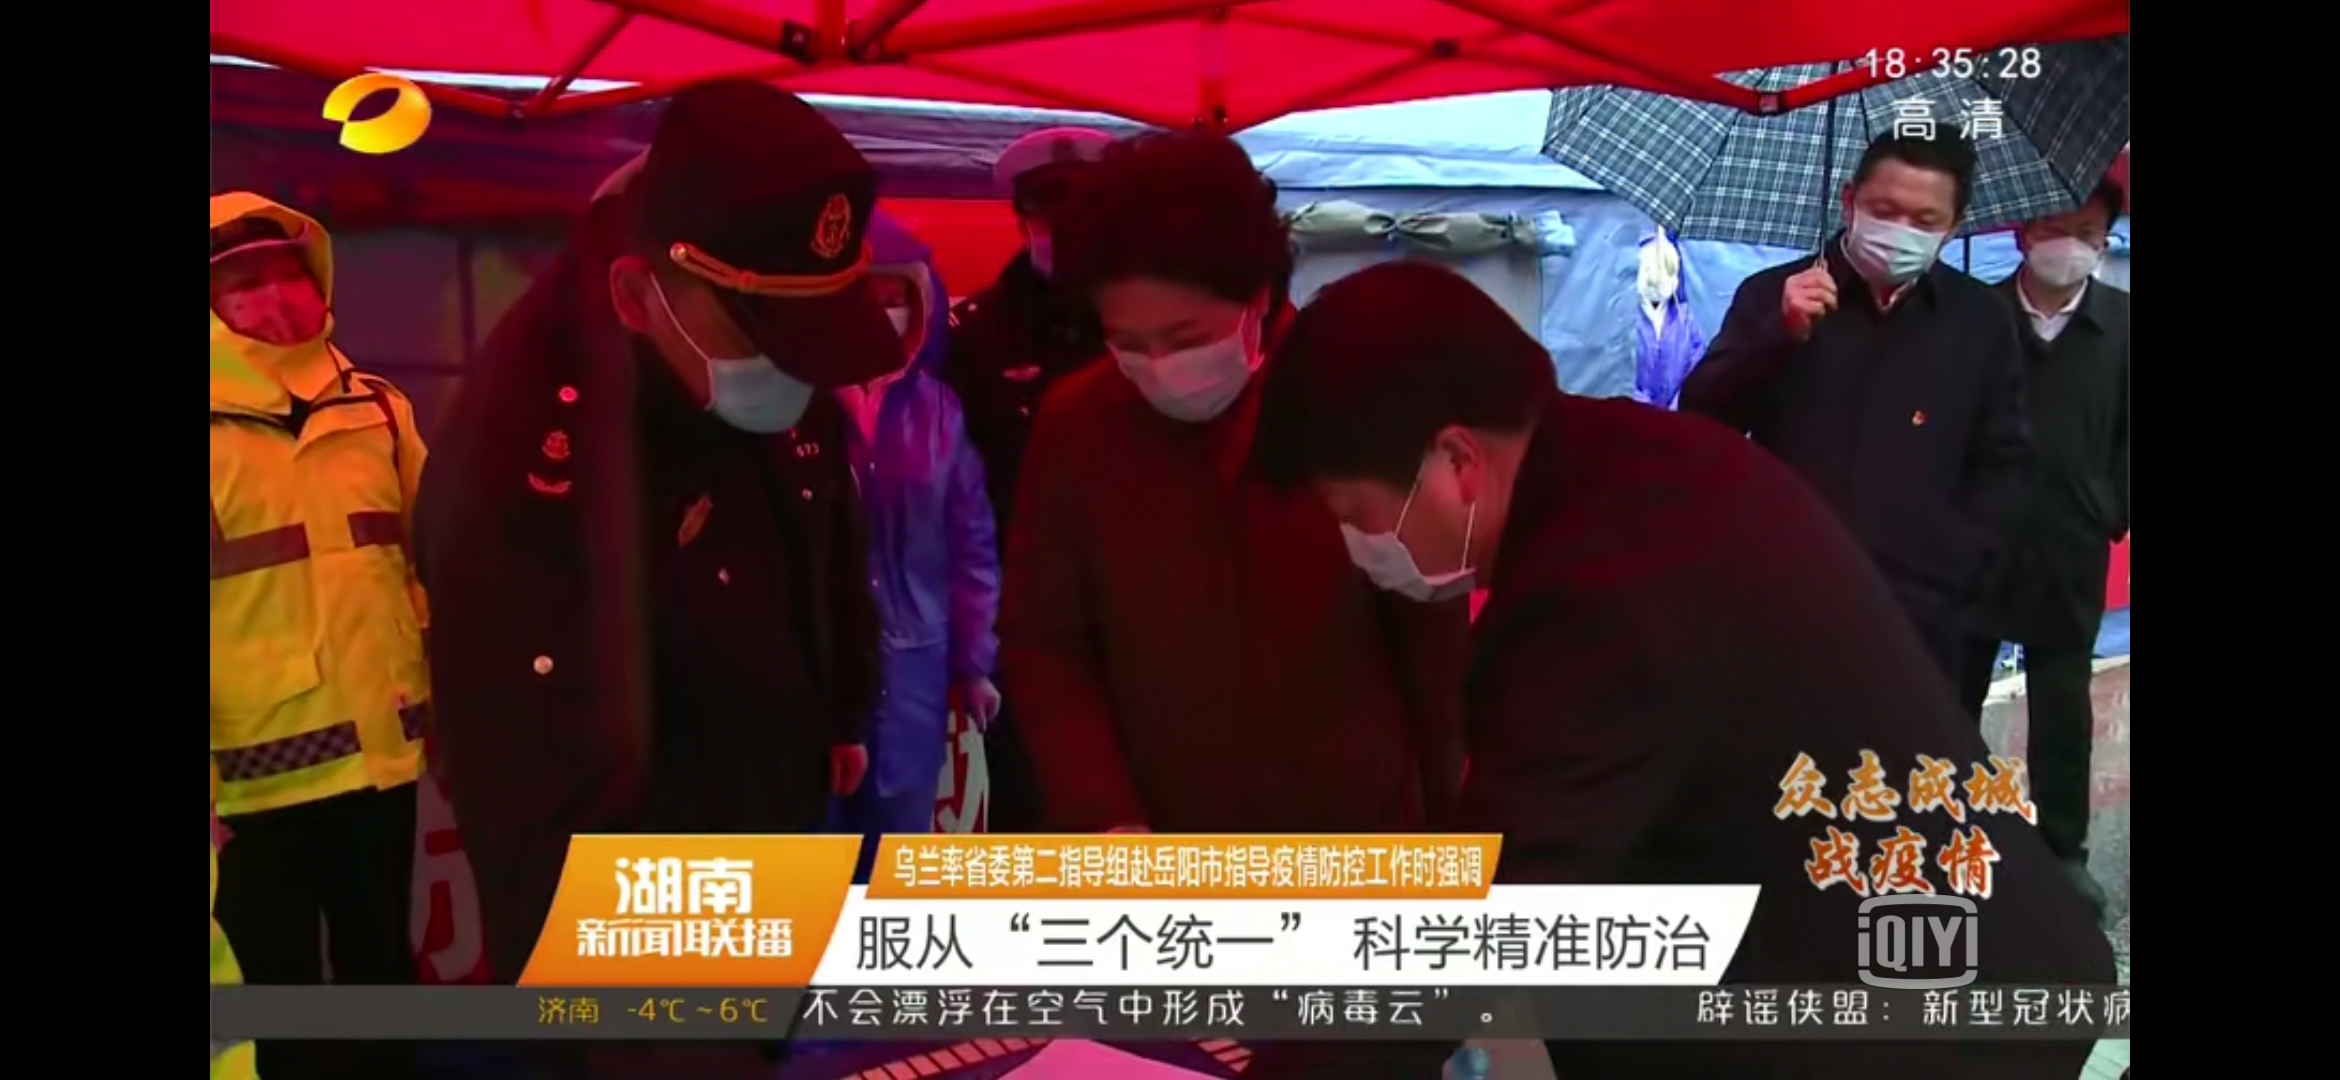correctlyWear: (604, 245, 827, 434), (1316, 407, 1486, 606), (1089, 269, 1274, 424), (1839, 175, 1959, 292), (210, 254, 331, 354), (2022, 207, 2112, 286), (1015, 191, 1066, 276), (870, 276, 919, 362)
